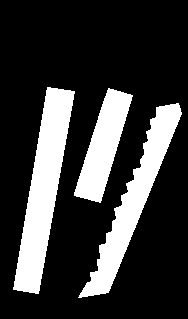parkingspot: (78, 103, 181, 297), (13, 87, 74, 293), (74, 88, 132, 202)
